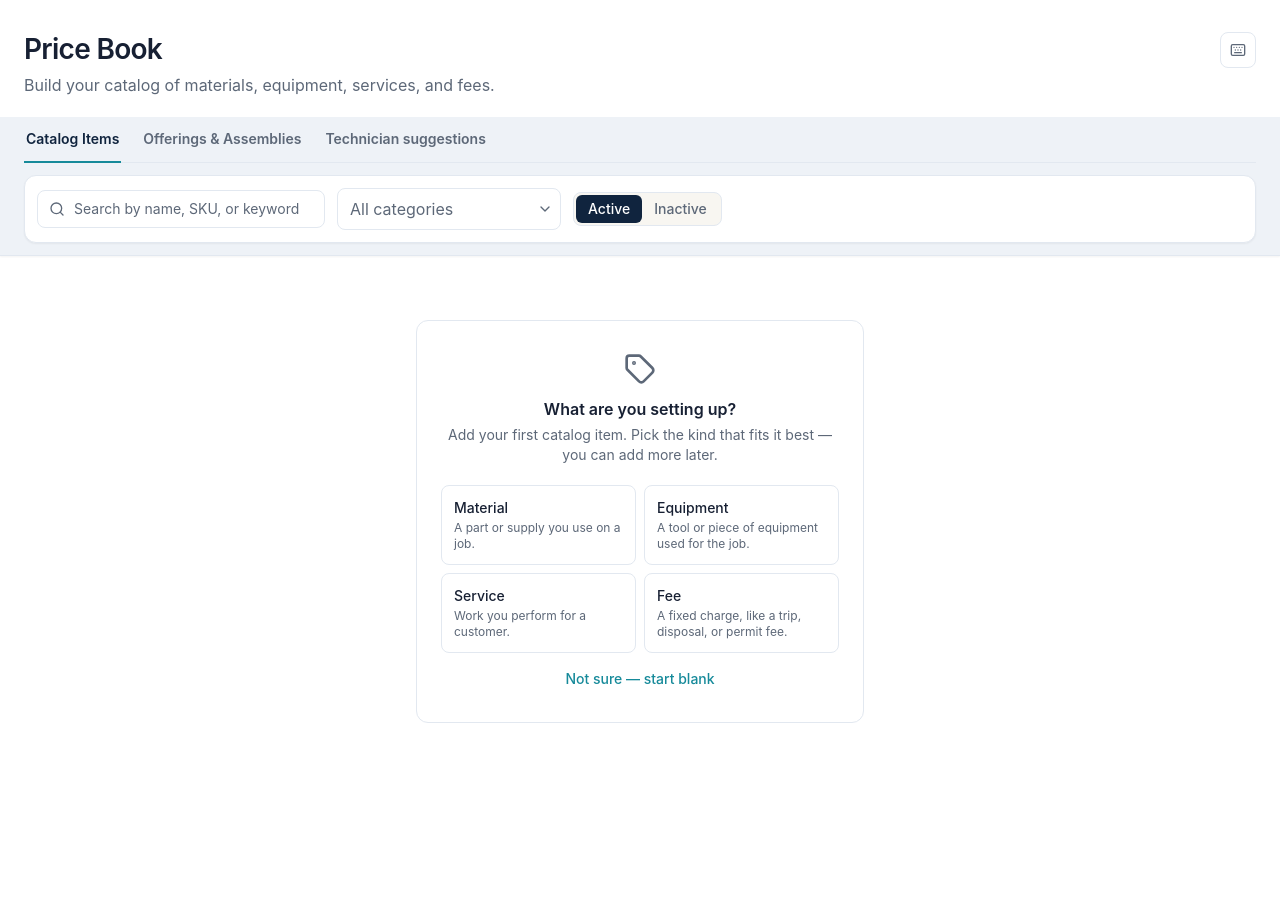
it: PriceBook › an empty-state type choice pre-selects that type in the drawer
Expected: the heading "What are you setting up?" is shown, [544,399,736,419]
What coordinates should you click on to do the following:
click the button "Fee A fixed charge, like a trip, disposal, or permit fee."
I would click on:
 (742, 613)
Its box is [644,573,839,653].
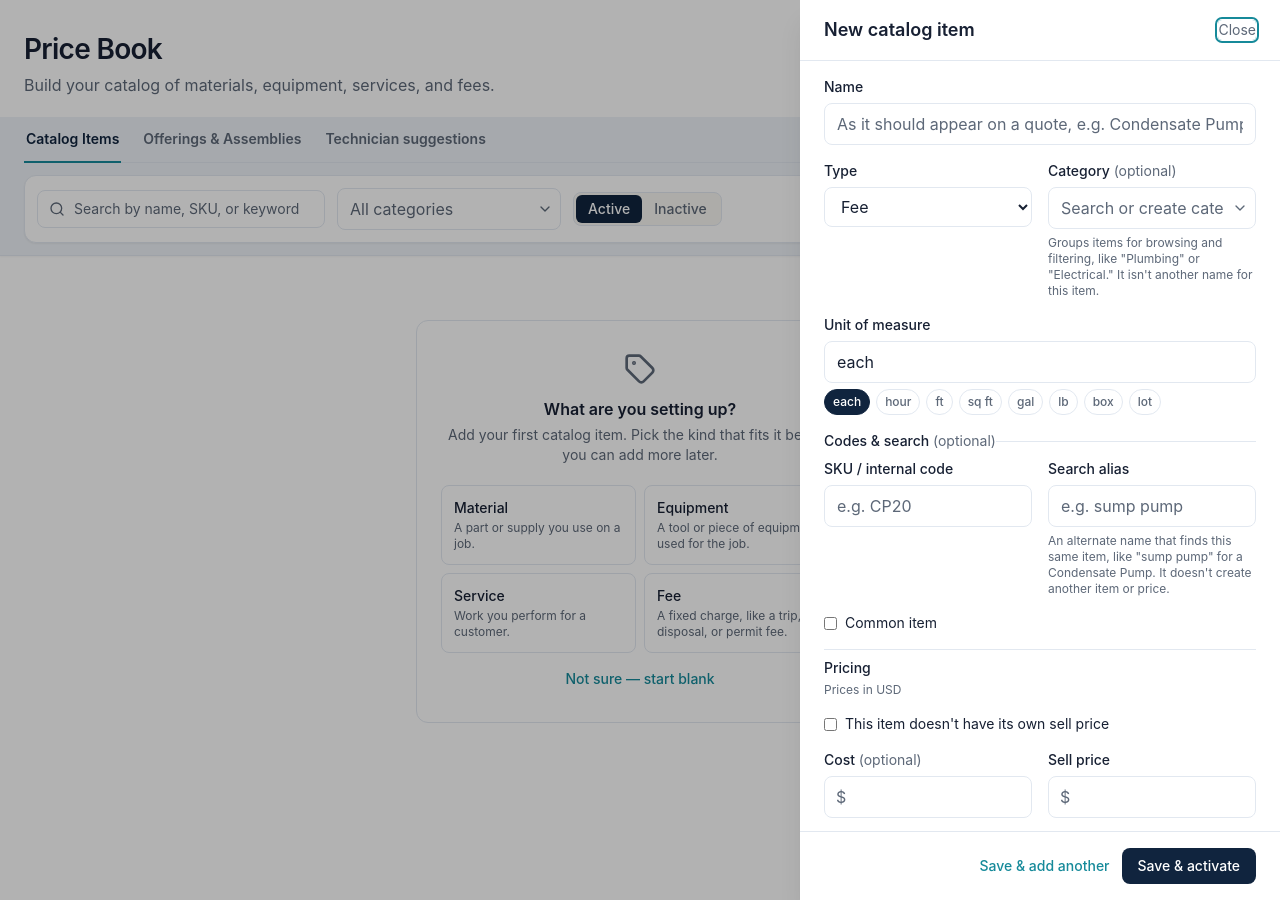
Expected: the dropdown labelled "Type" shows "Fee", [824,187,1032,227]
